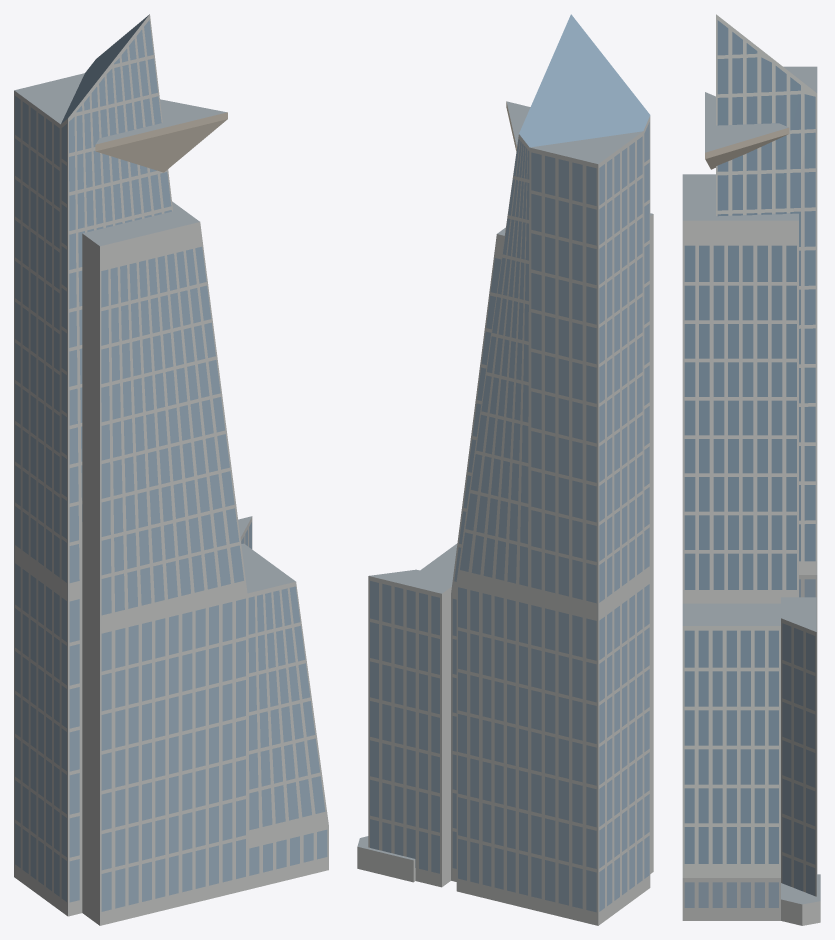
The model's file is nyc-30-hudson-yards.glb.
3 renders of one model, left to right at view 1: azimuth 30°, elevation 25°; view 2: azimuth 150°, elevation 25°; view 3: azimuth 270°, elevation 25°, orthographic. The views are drawn at different scales.
Parts seen in each view (by area): view 1: 30 Hudson Yards; view 2: 30 Hudson Yards; view 3: 30 Hudson Yards.
Part boxes in pixels (x1,y1,x2,y2): 30 Hudson Yards: [14, 14, 328, 925]; 30 Hudson Yards: [357, 14, 653, 925]; 30 Hudson Yards: [682, 14, 820, 925].
Bounding box in the file's own units: 117 × 387 × 58.16.
